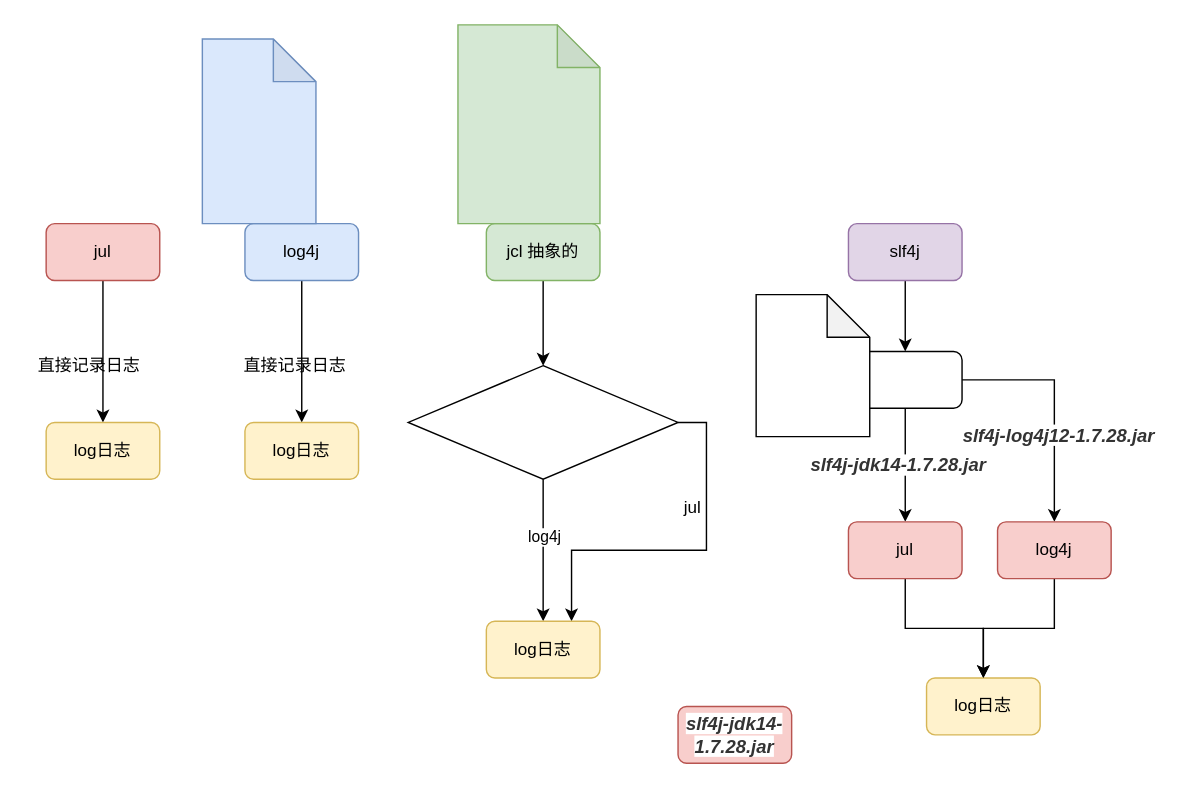
The diagram is 1179 pixels wide and 788 high, and some of its shapes have lost their labels. Each missing label, with the box of its shape:
如果使用jcl，那么，需要使用log4j记录日志的时候添加依赖就可以了。使用jul，则去掉log4j依赖: (457, 23, 600, 224)
绑定器: (847, 350, 962, 408)
缺点： app1，使用jul记录日志， app2，使用log4j记录日志 日志格式很难统一，很混乱: (201, 38, 316, 224)
通过switch依次选择日志实现技术: (407, 364, 678, 479)
通过绑定器绑定到具体的日志技术: (755, 293, 870, 437)
